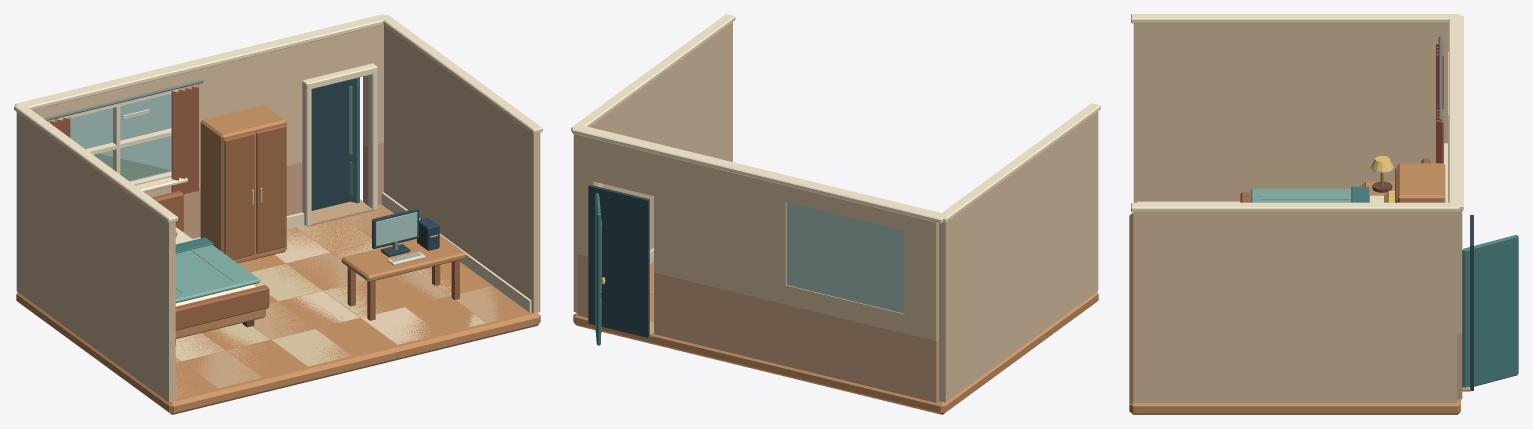
File: bedroom.glb
3 views of the same model, side by side, from view 1: azimuth 30°, elevation 25°; view 2: azimuth 150°, elevation 25°; view 3: azimuth 270°, elevation 25° (orthographic). The views are drawn at different scales.
Parts seen in each view (by area): view 1: architecture_stone_plaster_metal, intact_wardrobe, intact_bed, intact_desk, intact_blanket, intact_curtain_right, intact_computer, intact_door, intact_mattress; view 2: architecture_stone_plaster_metal, intact_door; view 3: architecture_stone_plaster_metal, intact_door, intact_wardrobe, intact_blanket, intact_bedside_lamp, intact_curtain_right.
Part boxes in pixels (x1,y1,x2,y2): architecture_stone_plaster_metal: (14, 14, 542, 414); intact_wardrobe: (200, 105, 286, 263); intact_bed: (152, 190, 269, 344); intact_desk: (341, 234, 465, 320); intact_blanket: (175, 237, 260, 303); intact_curtain_right: (171, 84, 198, 194); intact_computer: (372, 208, 439, 265); intact_door: (349, 77, 359, 203); intact_mattress: (175, 227, 256, 306); architecture_stone_plaster_metal: (571, 14, 1100, 414); intact_door: (595, 193, 605, 345); architecture_stone_plaster_metal: (1129, 14, 1473, 414); intact_door: (1462, 235, 1518, 387); intact_wardrobe: (1395, 163, 1445, 202); intact_blanket: (1250, 186, 1369, 202); intact_bedside_lamp: (1370, 155, 1393, 192); intact_curtain_right: (1436, 109, 1443, 163).
Size of what is drawn, in the model's own units: 6.7 by 3.38 by 5.68.
1 material, 1 textured.
